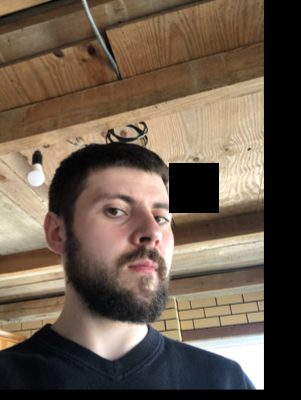without_mask: (79, 189, 173, 322)
